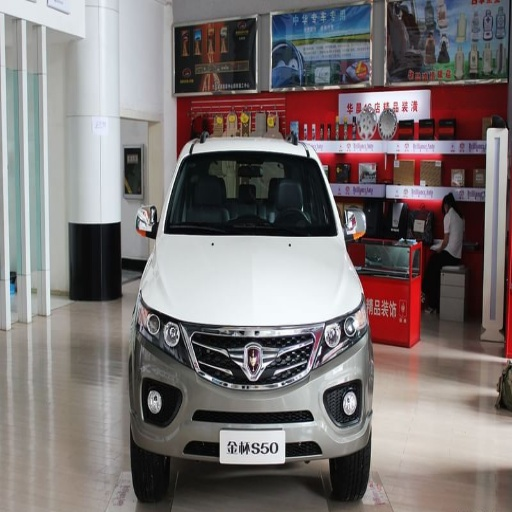front_bumper: (137, 318, 372, 474)
front_right_light: (138, 299, 180, 358)
hood: (145, 234, 362, 324)
